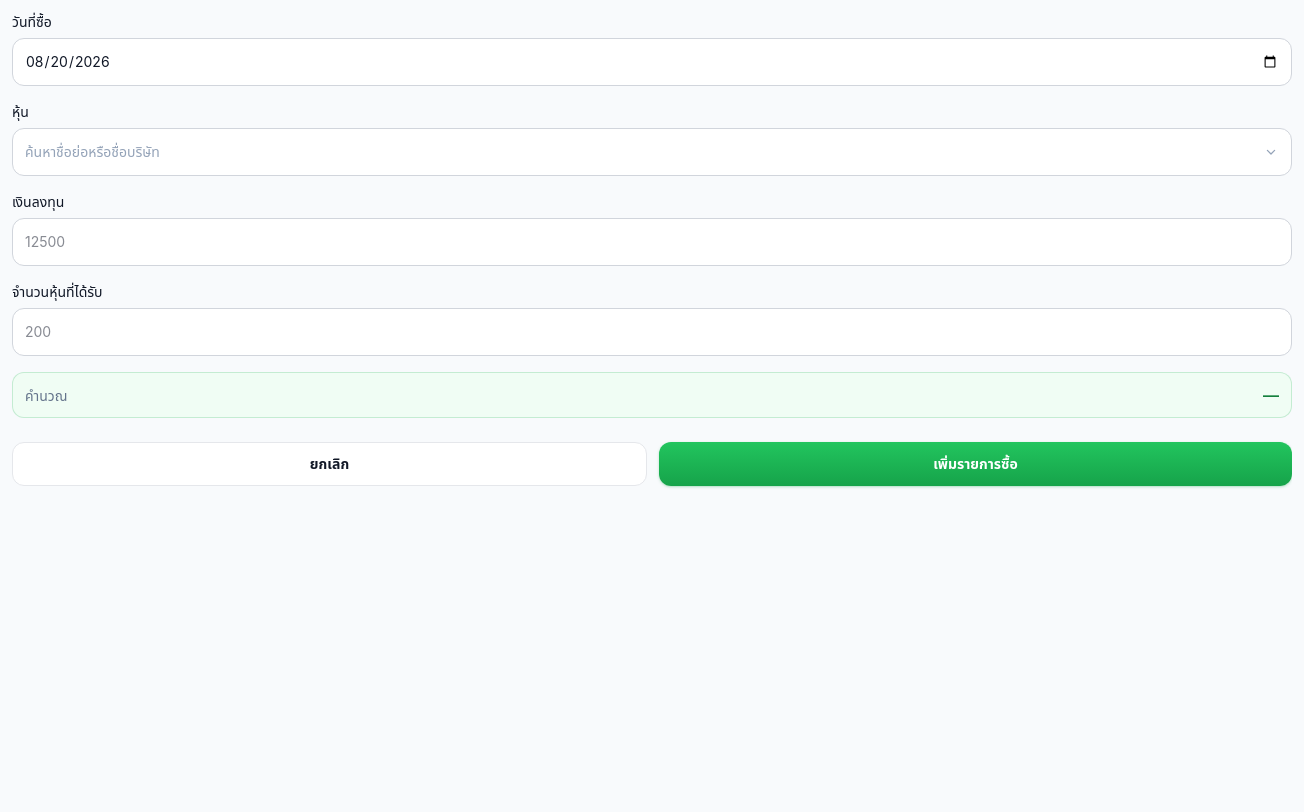
TransactionForm › blocks submission until every field is valid
Click the button "เพิ่มรายการซื้อ".
click(976, 464)  # box [659,442,1292,486]
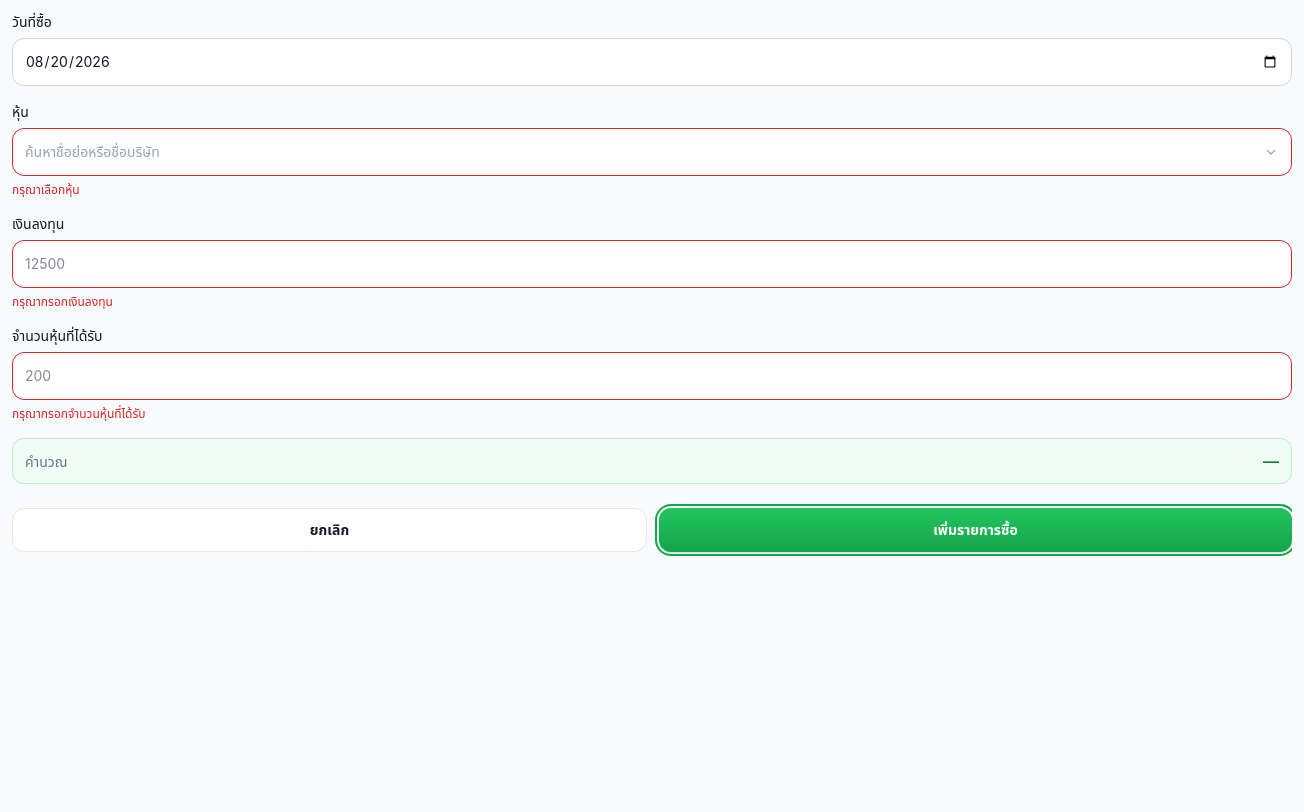
Expected: the text "กรุณาเลือกหุ้น" is shown, [12,182,80,197]
Expected: the text "กรุณากรอกเงินลงทุน" is shown, [12,294,113,309]
Expected: the text "กรุณากรอกจำนวนหุ้นที่ได้รับ" is shown, [12,406,146,421]
